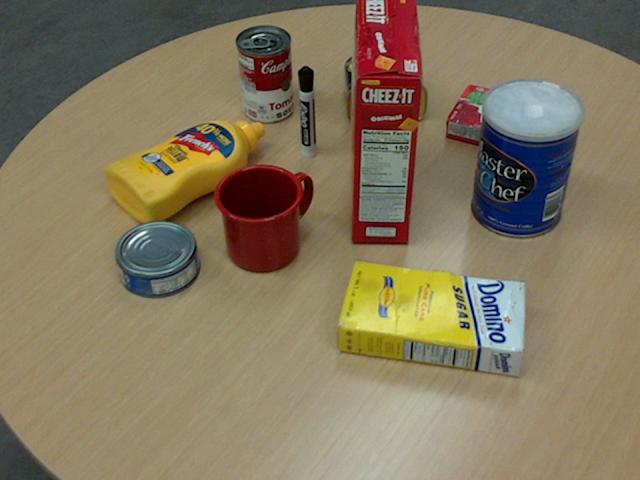cracker_box: (346, 0, 420, 242)
gelatin_box: (445, 83, 522, 148)
large_marker: (297, 65, 314, 157)
master_chef_can: (470, 79, 582, 238)
mug: (212, 163, 311, 272)
mustard_bottle: (103, 119, 264, 223)
potted_meat_can: (344, 52, 428, 124)
sugar_box: (335, 262, 526, 377)
tomato_soup_can: (236, 23, 293, 121)
tuna_fish_can: (113, 220, 198, 297)
